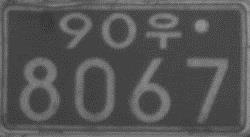0: (73, 55, 116, 124), (100, 11, 137, 50)
6: (127, 56, 171, 124)
7: (185, 55, 230, 125)
8: (17, 56, 60, 122)
9: (59, 11, 92, 49)
우: (145, 12, 183, 49)
